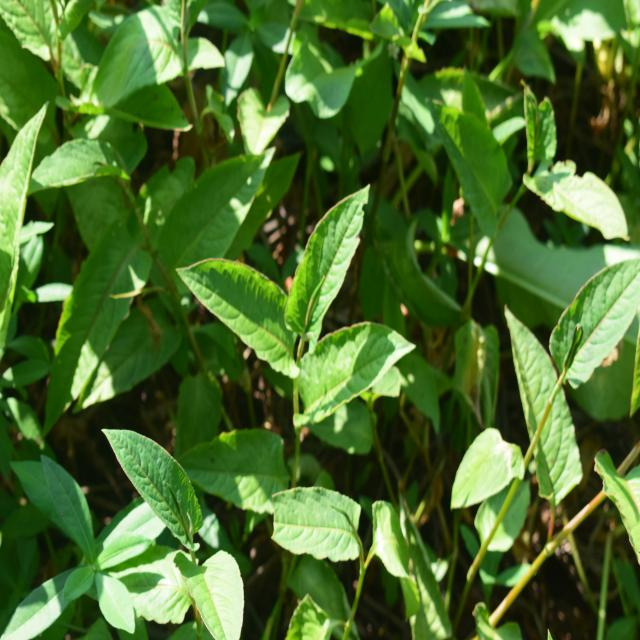Chinese_knotweed: (178, 186, 406, 422), (502, 245, 640, 572), (121, 406, 252, 638)
